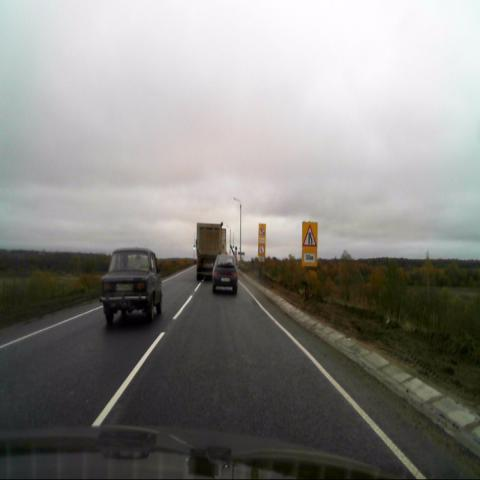1_20_2: (302, 222, 317, 248)
8_1_1: (301, 249, 318, 266)
